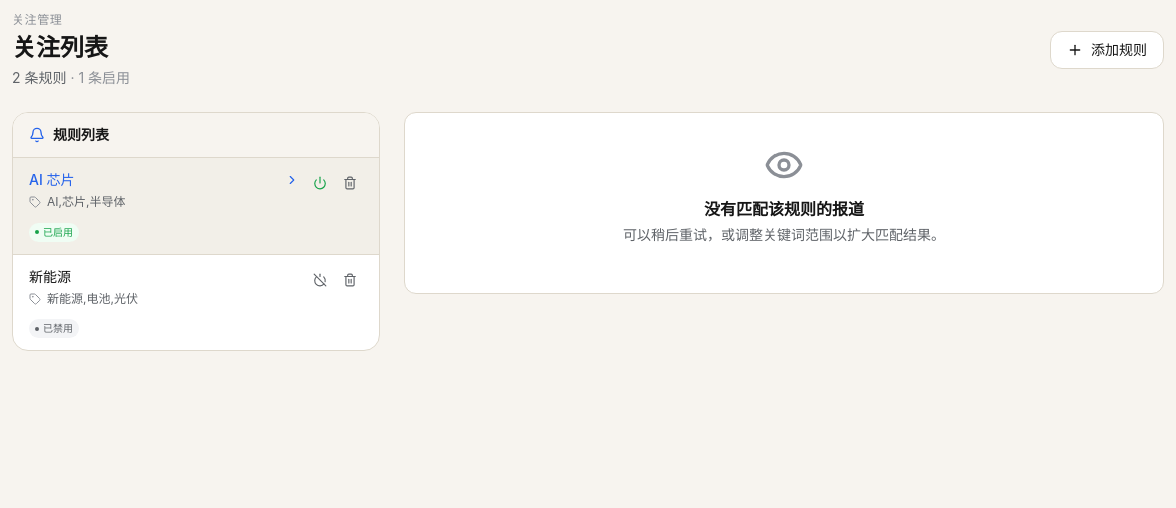
WatchlistPage › 添加表单默认收起，点击按钮展开
The width and height of the screenshot is (1176, 508).
Check: the heading "关注列表" is shown, box [12,33,108,62]
Check: the field with placeholder "规则名称" is not shown
Click the button "添加规则".
click(1107, 50)  # box [1050,31,1164,69]
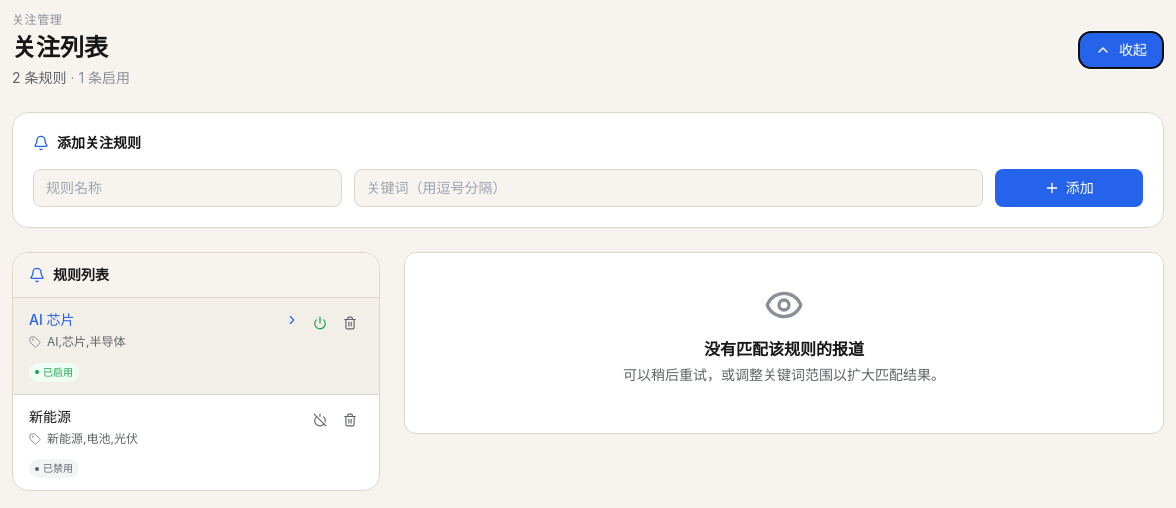
Check: the field with placeholder "规则名称" is shown, box [33,169,342,207]
